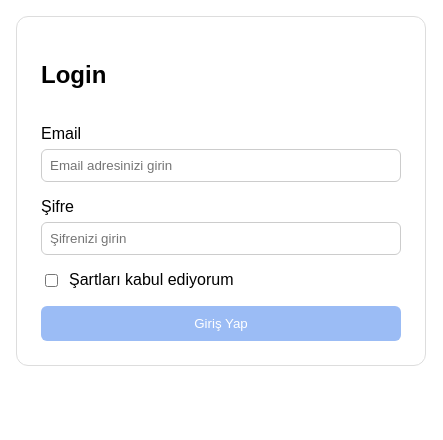
Login Formu › Hatalı senaryolar › Email ve password yanlış girilince 2 hata mesajı görünüyor
Step 1. Type "yanlis-email" into the field with test id "email-input" → (221,166), box left=41, top=149, right=401, bottom=182
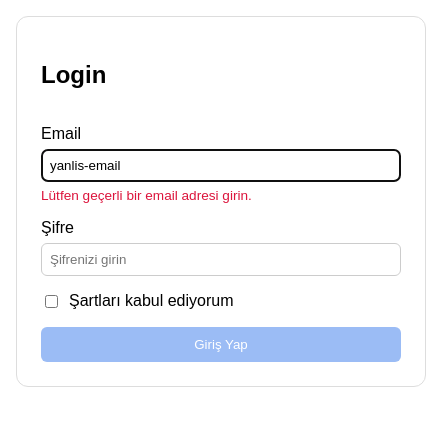
Step 2. Type "1234" into the password field with test id "password-input" → (221,260), box left=41, top=243, right=401, bottom=276
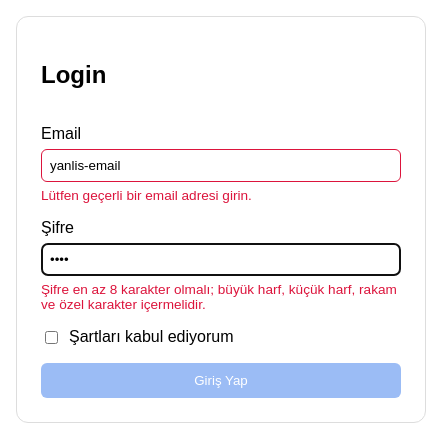
Check: the button with test id "submit-button" is disabled, box left=41, top=363, right=401, bottom=398
Check: the text "Şifre en az 8 karakter olmalı; büyük harf, küçük harf, rakam ve özel karakter içermelidir." is shown, box left=41, top=282, right=397, bottom=312
